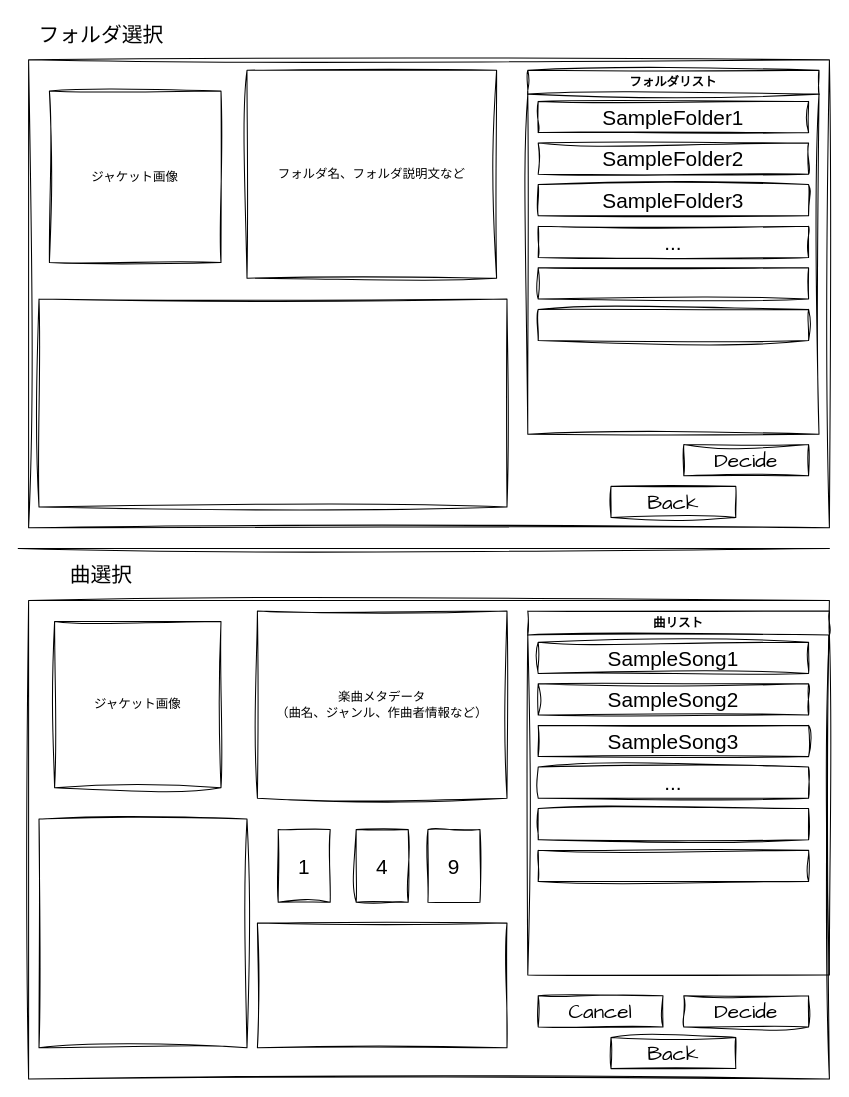
Some shapes in this 849 by 1097 pixel diagram are drawn without their labels. The shapes that lost their labels are listed below. From the top down, each one's centre as x and y in pixels, then its label:
the point at 272,402: フォルダ内の楽曲のプレイ状況表示 （解禁済曲数とかもろもろ）
the point at 142,933: プレイデータ （ハイスコアとか）
the point at 381,985: 譜面メタデータ （BPMとかノーツ数とか）
